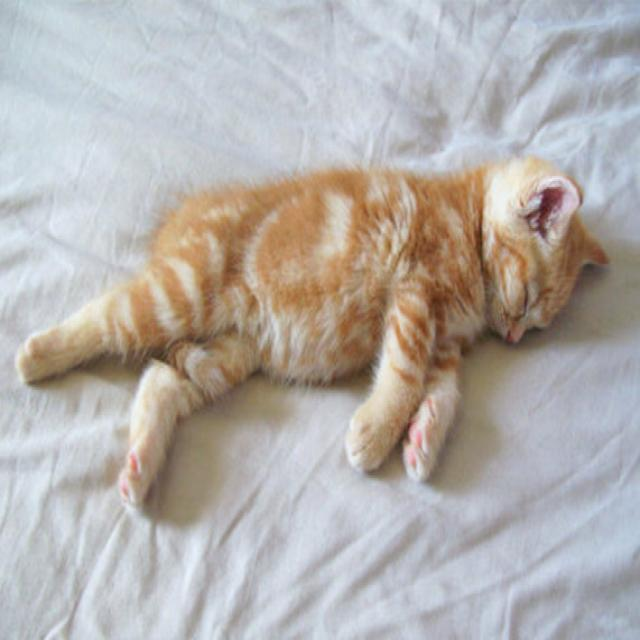cat: (13, 121, 630, 524)
